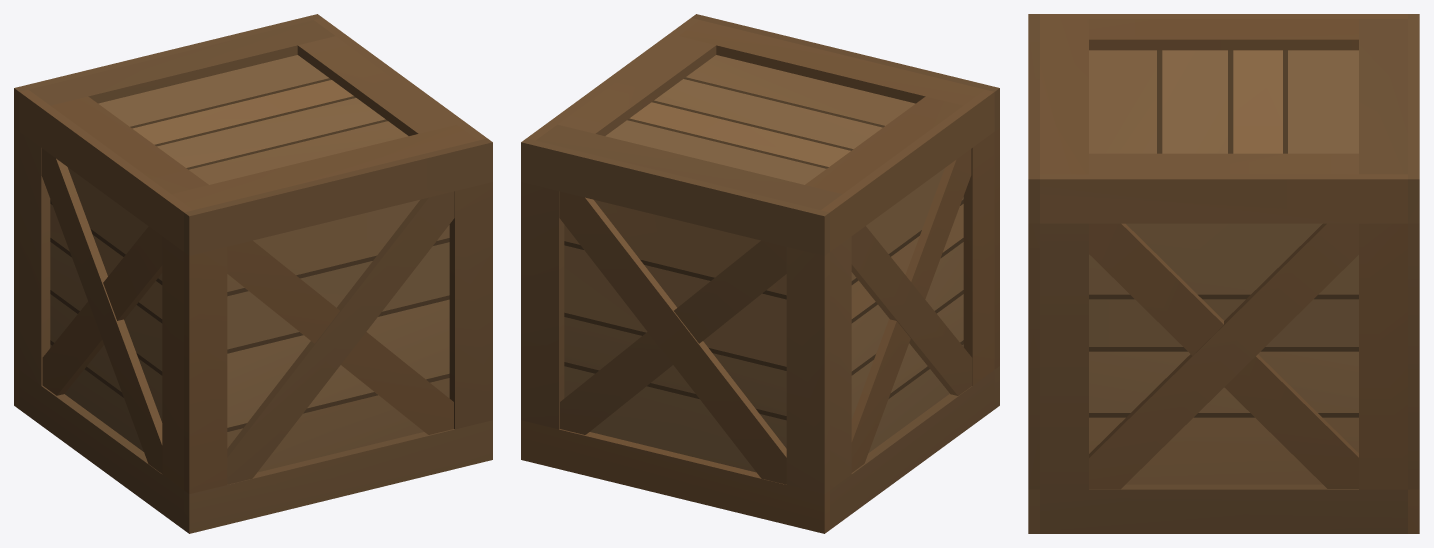
File: crate.wood.x_brace.glb
3 renders of one model, left to right at view 1: azimuth 30°, elevation 25°; view 2: azimuth 150°, elevation 25°; view 3: azimuth 270°, elevation 25°, orthographic. The views are drawn at different scales.
Visible parts, largest first — view 1: crate_wood_x_brace; view 2: crate_wood_x_brace; view 3: crate_wood_x_brace.
Boxes of the visible parts, x1,y1,x2,y2 form: crate_wood_x_brace: (14, 14, 492, 533); crate_wood_x_brace: (521, 14, 999, 533); crate_wood_x_brace: (1028, 14, 1419, 533).
Size of what is drawn, in the model's own units: 0.6 by 0.6 by 0.6.
